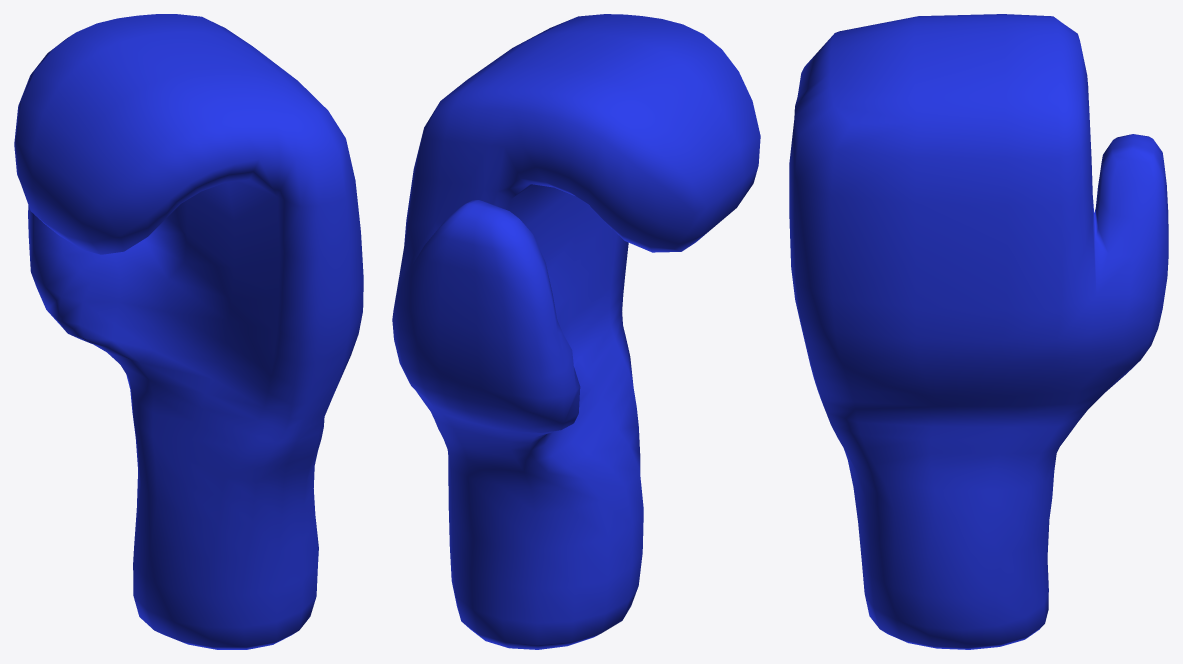
Rendered from bxglvs_left.fbx.
The picture shows the model from 3 angles, left to right: view 1: azimuth 30°, elevation 25°; view 2: azimuth 150°, elevation 25°; view 3: azimuth 270°, elevation 25°; orthographic projection. The views are drawn at different scales.
Parts seen in each view (by area): view 1: Cube; view 2: Cube; view 3: Cube.
Boxes of the visible parts, bbox=[...] form: Cube: bbox=[14, 14, 363, 649]; Cube: bbox=[392, 14, 760, 649]; Cube: bbox=[789, 14, 1168, 649].
Bounding box in the file's own units: 431 × 860 × 527.
